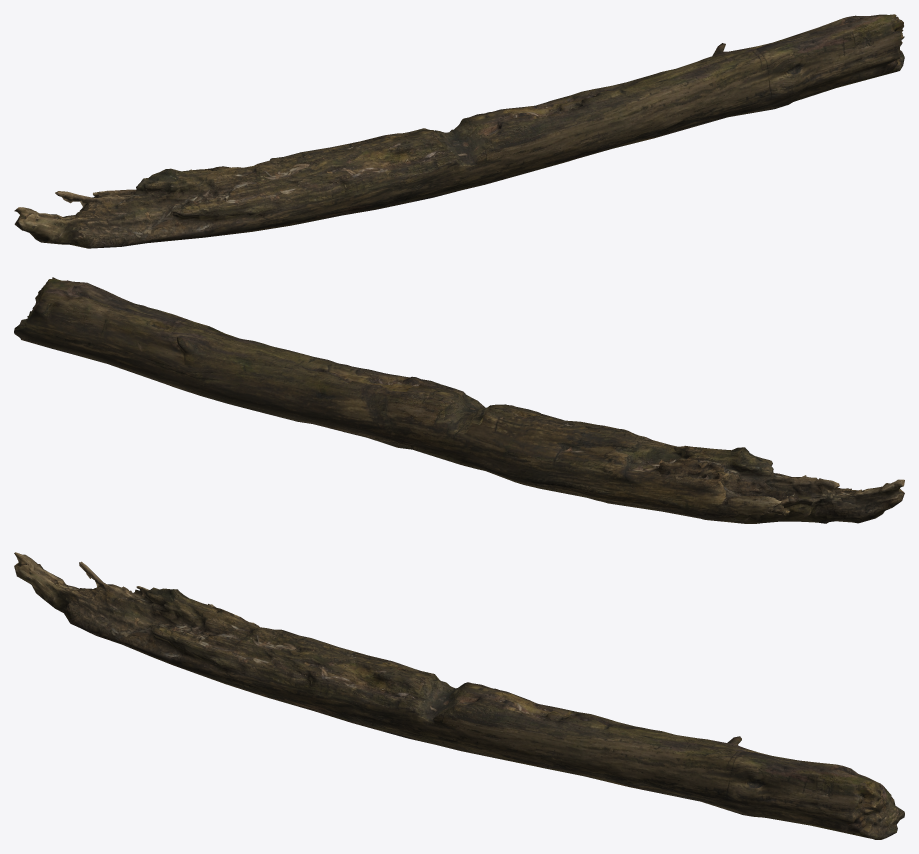
The model's file is dead_tree_trunk.glb.
3 views of the same model, one above another, from view 1: azimuth 30°, elevation 25°; view 2: azimuth 150°, elevation 25°; view 3: azimuth 330°, elevation 25° (orthographic).
Parts seen in each view (by area): view 1: dead_tree_trunk; view 2: dead_tree_trunk; view 3: dead_tree_trunk.
Boxes of the visible parts, left/top/right/bottom form: dead_tree_trunk: left=14, top=14, right=904, bottom=248; dead_tree_trunk: left=14, top=277, right=904, bottom=523; dead_tree_trunk: left=14, top=552, right=904, bottom=839.
Bounding box in the file's own units: 3.05 × 0.2904 × 0.2761.
1 material, 1 textured.
